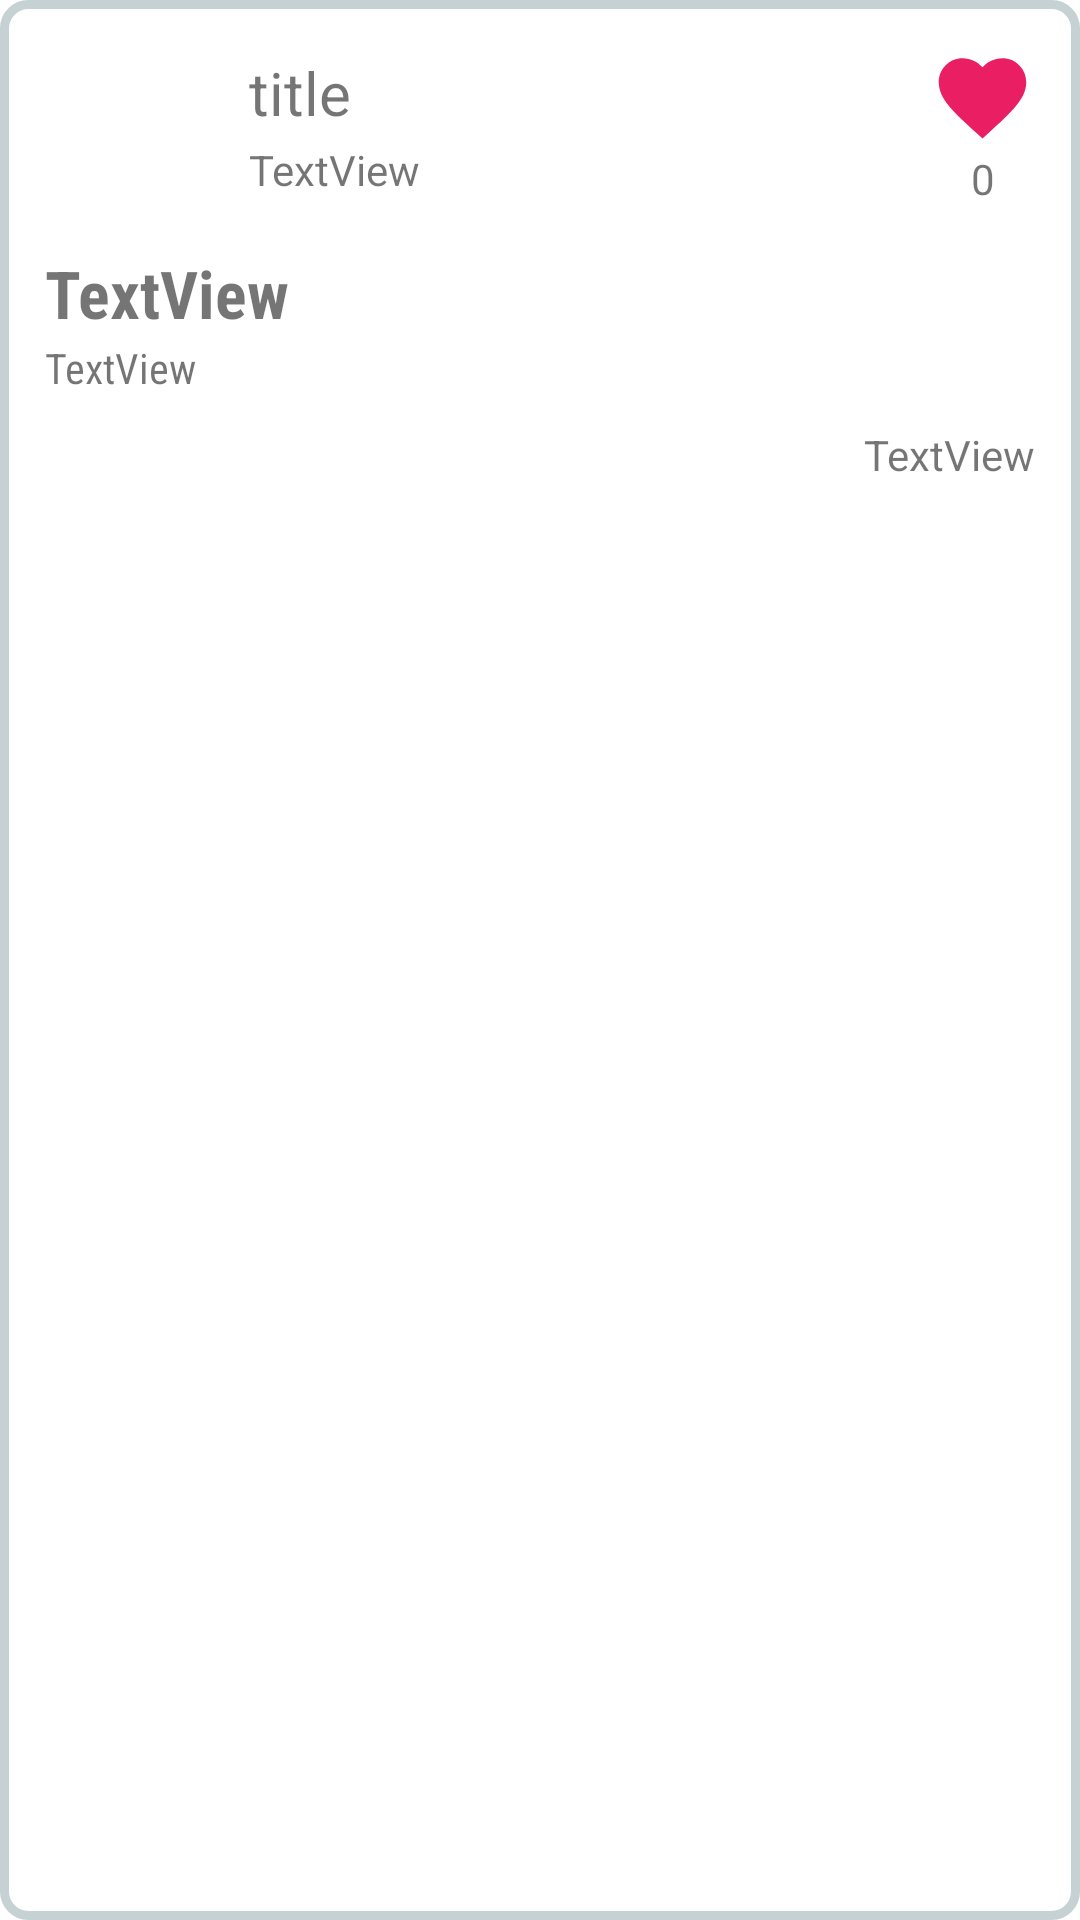

Named icons in this screenshot (1080x1920) and their bounding boxes, BBox(x1, y1, x2, y2):
heart: BBox(938, 58, 1027, 139)
